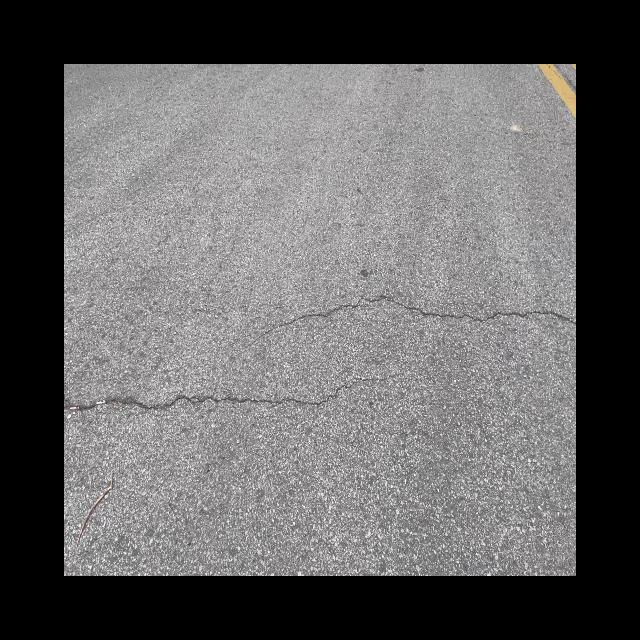retak_memanjang: (64, 353, 428, 448), (209, 278, 576, 350)
